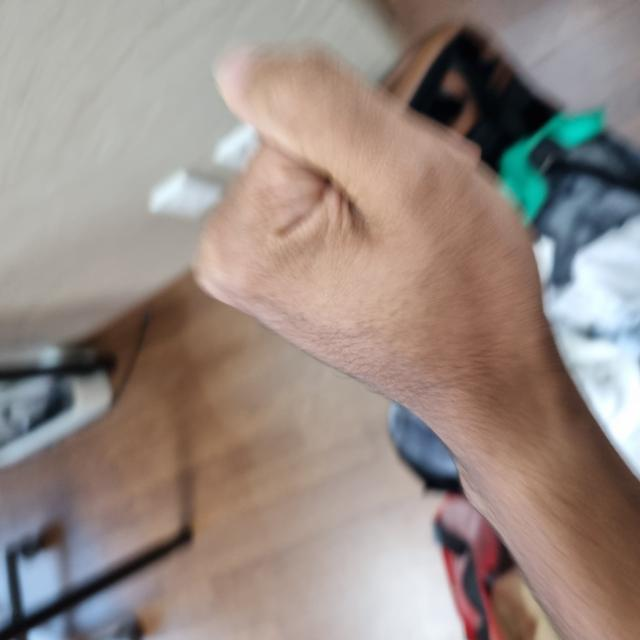Rock: (222, 197, 592, 545)
